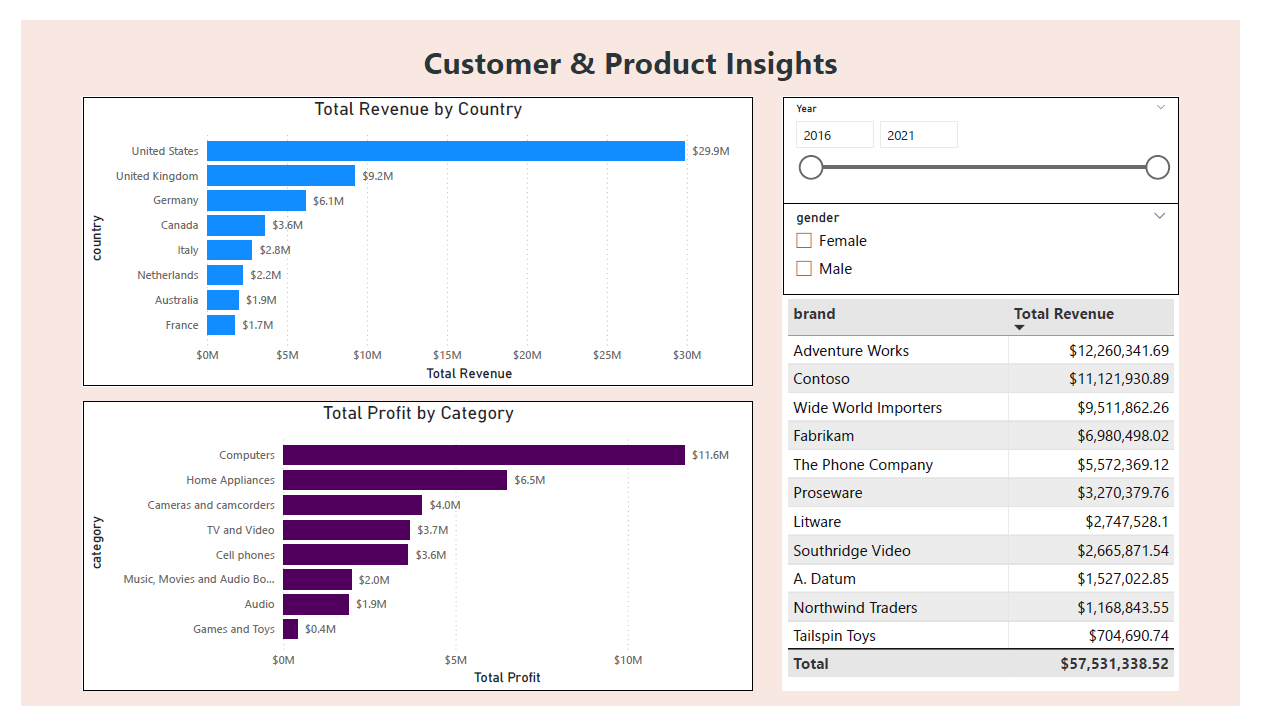

What the dashboard file says about the page in this screenshot:
{"tool":"powerbi","page":{"name":"Customer & Product Insights","canvas":[1280,720],"ordinal":1},"visuals":[{"type":"clusteredBarChart","title":"Total Revenue by Country","fields":{"Category":["gold_dim_customers.country"],"Y":["gold_fact_sales.Total Revenue"]},"box":[64,80,704,304],"z":0},{"type":"clusteredBarChart","title":"Total Profit by Category","fields":{"Y":["gold_fact_sales.Total Profit"],"Category":["gold_dim_products.category"]},"box":[64,400,704,304],"z":1000},{"type":"tableEx","fields":{"Values":["gold_dim_products.brand","gold_fact_sales.Total Revenue"]},"box":[800,288,416,416],"z":2000},{"type":"slicer","fields":{"Values":["DimDate.Year"]},"box":[800,80,416,112],"z":3000},{"type":"textbox","box":[64,16,1152,64],"z":4000},{"type":"slicer","fields":{"Values":["gold_dim_customers.gender"]},"box":[800,192,416,96],"z":5000}]}

Visuals, with their boxes in screenshot pixels (x1, y1, x2, y2), scaled from the page's 1280x720 canvas onto the 1262x727 screenshot:
"Total Revenue by Country" clusteredBarChart: [left=63, top=81, right=757, bottom=388]
"Total Profit by Category" clusteredBarChart: [left=63, top=404, right=757, bottom=711]
tableEx - gold_dim_products.brand x gold_fact_sales.Total Revenue: [left=789, top=291, right=1199, bottom=711]
slicer - DimDate.Year: [left=789, top=81, right=1199, bottom=194]
textbox: [left=63, top=16, right=1199, bottom=81]
slicer - gold_dim_customers.gender: [left=789, top=194, right=1199, bottom=291]
